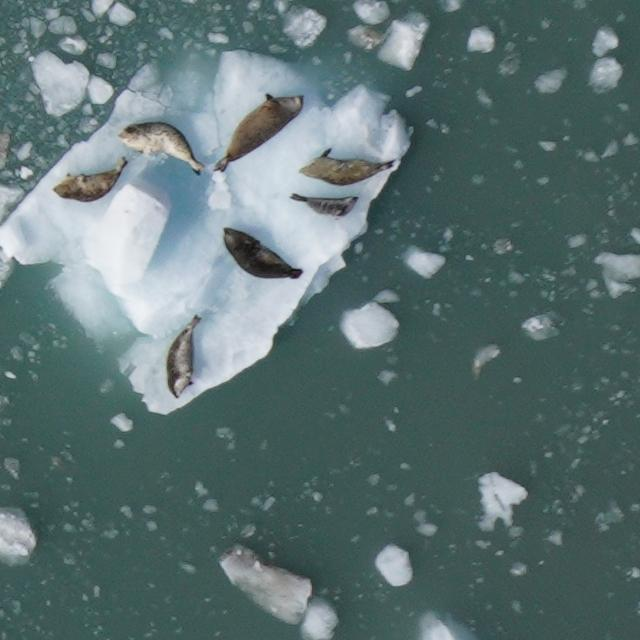seal: (211, 90, 309, 175), (114, 118, 208, 177), (219, 224, 306, 282), (296, 145, 401, 188), (50, 152, 134, 205), (164, 311, 206, 403), (284, 189, 362, 223)
